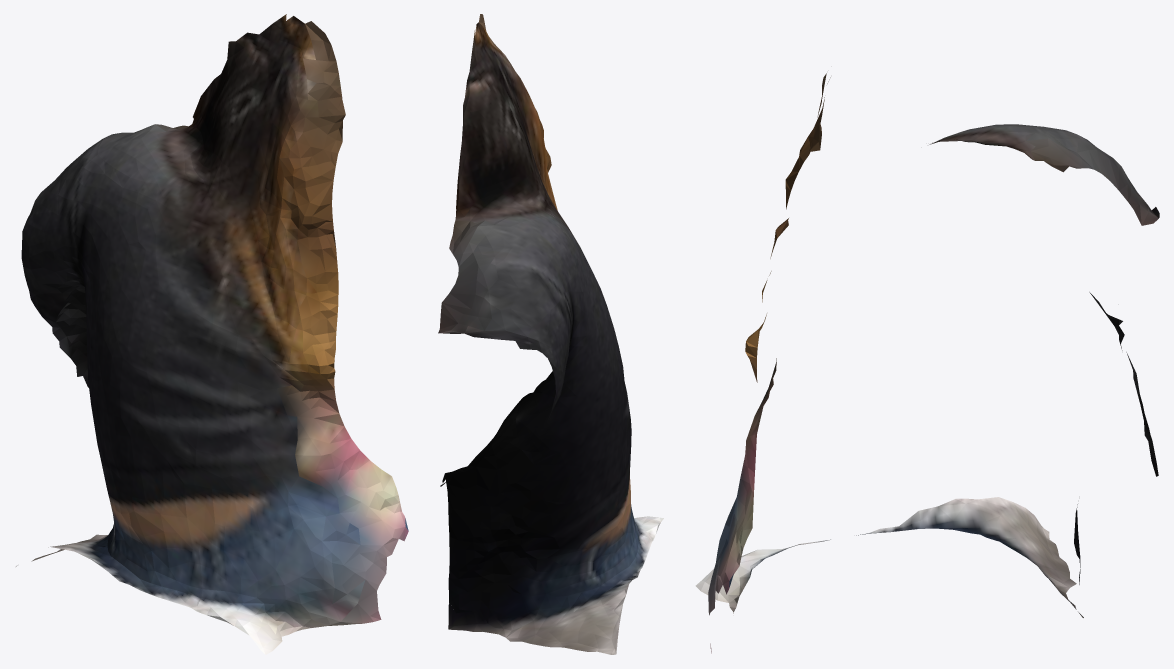
3 renders of one model, left to right at view 1: azimuth 30°, elevation 25°; view 2: azimuth 150°, elevation 25°; view 3: azimuth 270°, elevation 25°, orthographic. The views are drawn at different scales.
Bounding box in the file's own units: 0.3694 × 0.7559 × 0.5004.
Materials: 1 (1 with a texture image).
